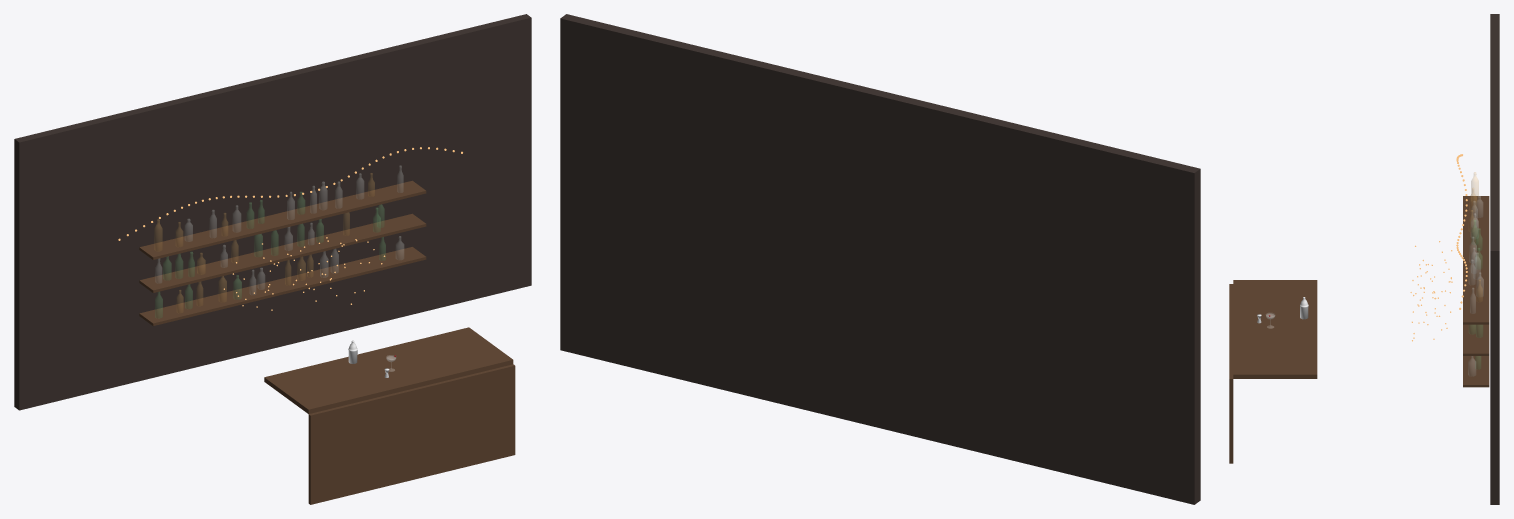
The model's file is bar_cocktail.glb.
3 views of the same model, side by side, from view 1: azimuth 30°, elevation 25°; view 2: azimuth 150°, elevation 25°; view 3: azimuth 270°, elevation 25° (orthographic). The views are drawn at different scales.
Visible parts, largest first — view 1: Muro, Fronte bancone, Mensole, Bancone, Bottiglie chiare, Bottiglie verdi, Bottiglie ambra; view 2: Muro; view 3: Bancone, Mensole, Muro, Bottiglie chiare, Fronte bancone, Bottiglie verdi, Bottiglie ambra, Lucine.
Part boxes in pixels (<box>): Muro: <box>14,14,531,410</box>; Fronte bancone: <box>308,364,515,504</box>; Mensole: <box>139,180,426,325</box>; Bancone: <box>264,327,513,413</box>; Bottiglie chiare: <box>155,165,403,294</box>; Bottiglie verdi: <box>155,192,385,318</box>; Bottiglie ambra: <box>154,173,374,312</box>; Muro: <box>560,14,1200,504</box>; Bancone: <box>1233,280,1317,378</box>; Mensole: <box>1463,196,1489,387</box>; Muro: <box>1490,14,1499,504</box>; Bottiglie chiare: <box>1468,196,1483,376</box>; Fronte bancone: <box>1229,284,1233,463</box>; Bottiglie verdi: <box>1469,220,1482,369</box>; Bottiglie ambra: <box>1469,172,1482,301</box>; Lucine: <box>1410,154,1467,341</box>.
Size of the model in its own units: 6 by 3.35 by 2.89.
